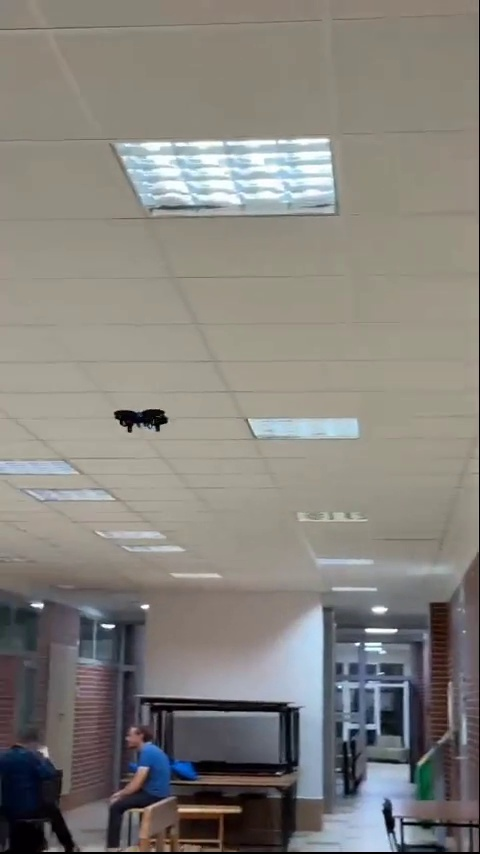drone: (112, 406, 171, 433)
no vest: (0, 728, 82, 844), (107, 720, 171, 816)
